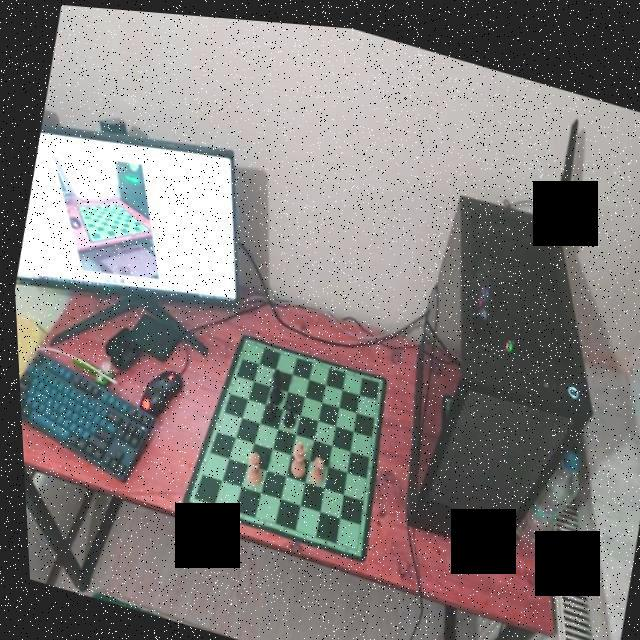chess-table-corners: (369, 368, 380, 382), (183, 488, 194, 502), (346, 537, 356, 550), (240, 333, 250, 344)
